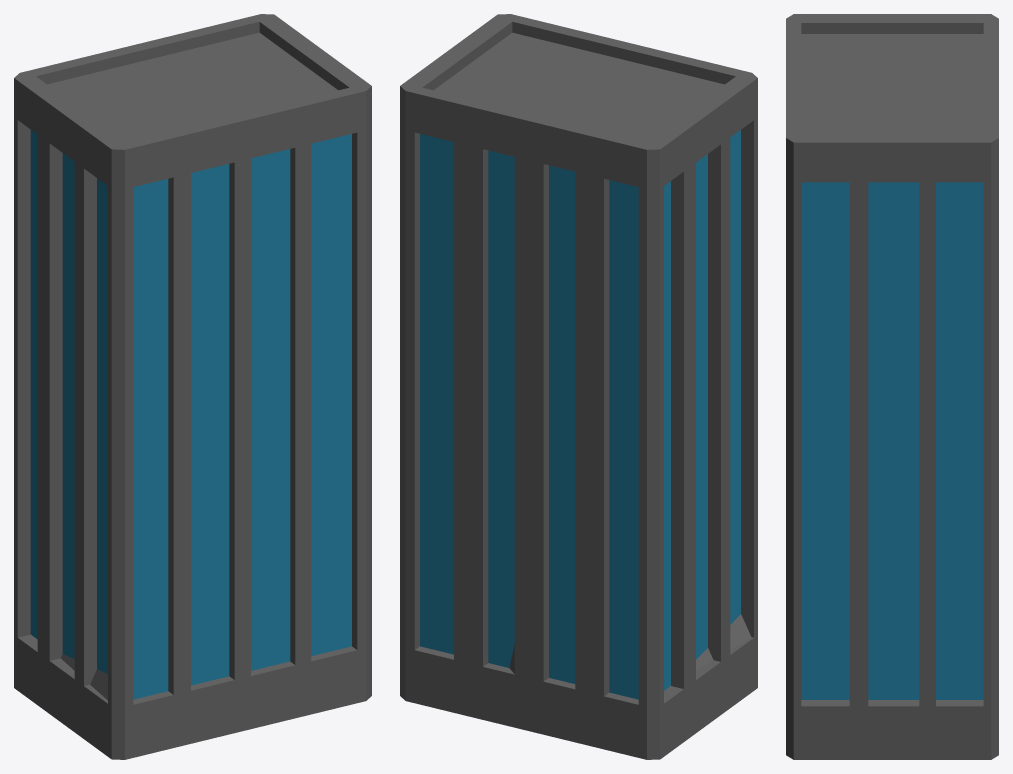
The model's file is D_biurowiec2.fbx.
The picture shows the model from 3 angles, left to right: view 1: azimuth 30°, elevation 25°; view 2: azimuth 150°, elevation 25°; view 3: azimuth 270°, elevation 25°; orthographic projection.
Parts seen in each view (by area): view 1: biurowiec2.001, biurowiec2.004, biurowiec2.032, biurowiec2.014, biurowiec2.002, biurowiec2.009, biurowiec2.005, biurowiec2.033, biurowiec2.003, biurowiec2.018, biurowiec2.021, biurowiec2.036 (+4 smaller); view 2: biurowiec2.004, biurowiec2.005, biurowiec2.006, biurowiec2.014, biurowiec2.032, biurowiec2.002, biurowiec2.011, biurowiec2.001, biurowiec2.010, biurowiec2.019, biurowiec2.023, biurowiec2.017 (+10 smaller); view 3: biurowiec2.011, biurowiec2.006, biurowiec2.007, biurowiec2.023, biurowiec2.003, biurowiec2.021, biurowiec2.001, biurowiec2.005, biurowiec2.030, biurowiec2.032, biurowiec2.016.
Boxes of the visible parts, box(x1,y1,x2,y2) form: biurowiec2.001: box(45, 69, 367, 297); biurowiec2.004: box(14, 296, 202, 542); biurowiec2.032: box(14, 68, 179, 343); biurowiec2.014: box(14, 485, 204, 710); biurowiec2.002: box(14, 499, 244, 759); biurowiec2.009: box(180, 169, 357, 476); biurowiec2.005: box(42, 21, 371, 140); biurowiec2.033: box(205, 477, 298, 730); biurowiec2.003: box(299, 381, 371, 634); biurowiec2.018: box(215, 166, 365, 476); biurowiec2.021: box(273, 567, 371, 723); biurowiec2.036: box(93, 298, 198, 460); biurowiec2.004: box(571, 301, 757, 587); biurowiec2.005: box(435, 14, 626, 318); biurowiec2.006: box(400, 454, 523, 724); biurowiec2.014: box(571, 467, 757, 737); biurowiec2.032: box(602, 65, 757, 293); biurowiec2.002: box(538, 534, 757, 759); biurowiec2.011: box(400, 189, 490, 453); biurowiec2.001: box(518, 16, 719, 297); biurowiec2.010: box(596, 241, 730, 374); biurowiec2.019: box(458, 237, 575, 394); biurowiec2.023: box(400, 17, 494, 236); biurowiec2.017: box(508, 321, 588, 489); biurowiec2.011: box(790, 213, 998, 488); biurowiec2.006: box(878, 540, 998, 759); biurowiec2.007: box(846, 452, 998, 634); biurowiec2.023: box(788, 123, 998, 233); biurowiec2.003: box(786, 438, 878, 697); biurowiec2.021: box(786, 617, 894, 759); biurowiec2.001: box(786, 30, 993, 199); biurowiec2.005: box(786, 29, 998, 208); biurowiec2.030: box(786, 213, 845, 451); biurowiec2.032: box(786, 14, 998, 45); biurowiec2.016: box(788, 187, 998, 247).
Size of the model in its own units: 500 by 1120 by 350.
